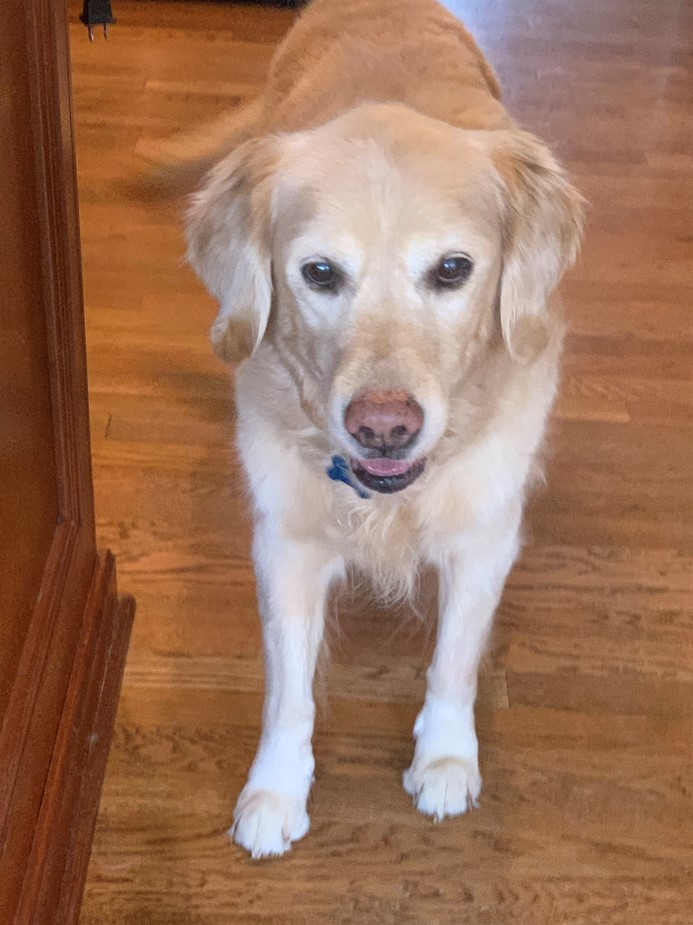bella: (185, 101, 587, 496)
